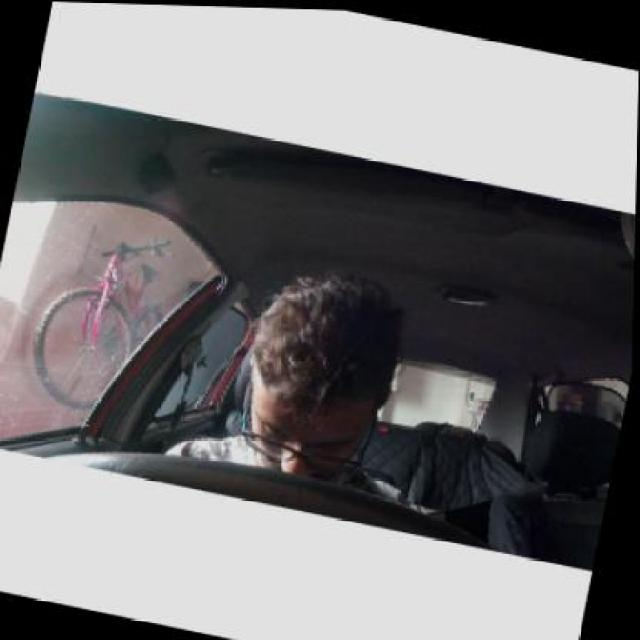drowsy: (241, 276, 391, 470)
